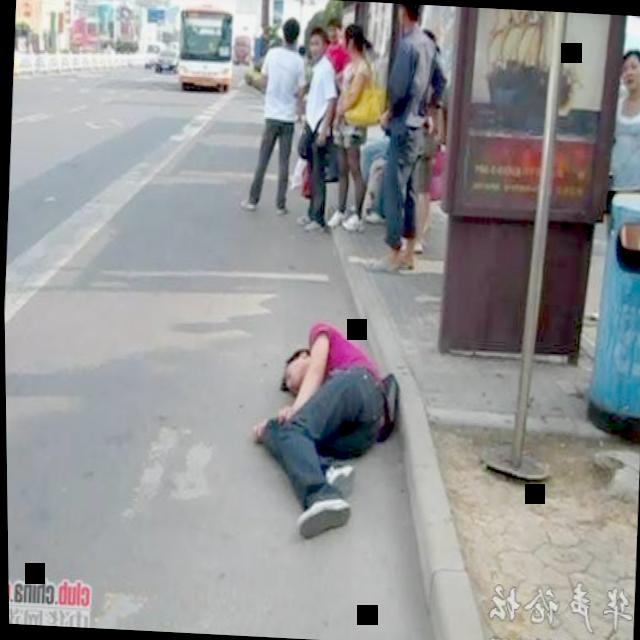Fall-Detected: (240, 302, 416, 550)
